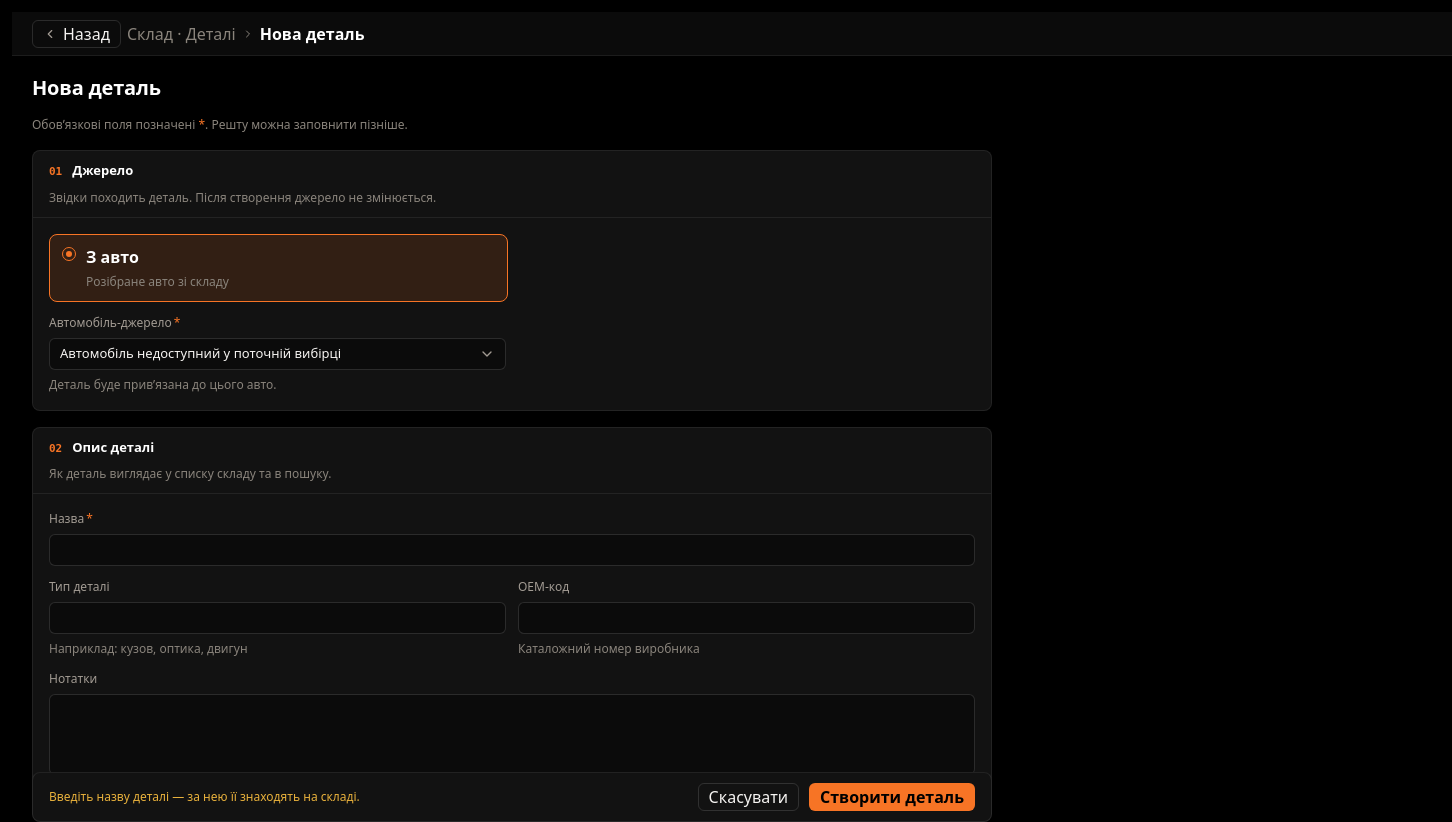
Test: opens the newly created part instead of leaving the creation drawer open
Type "Дзеркало" into the field labelled "Назва" at (512,550), box [49, 534, 975, 566]
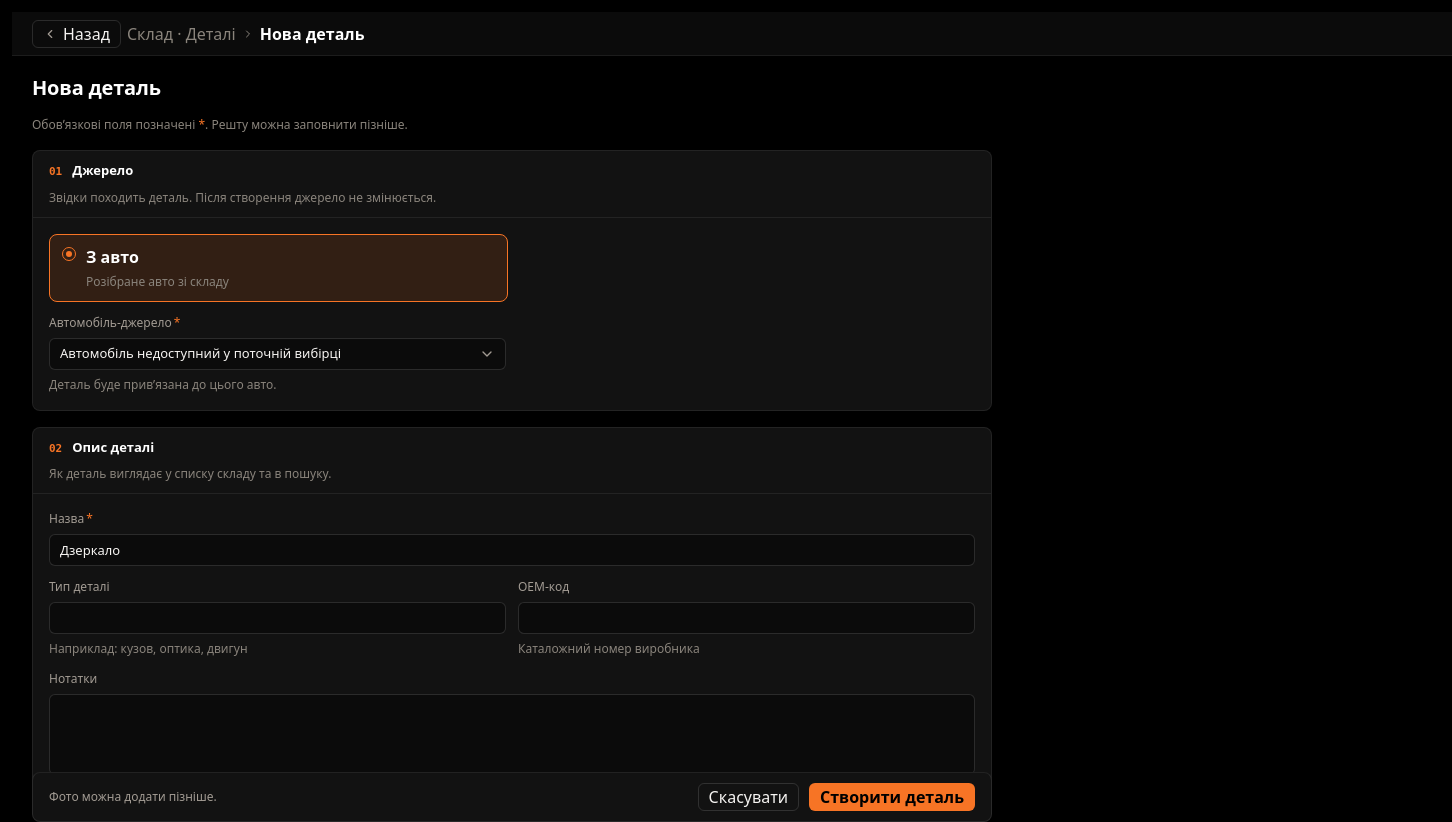
Click the button "Створити деталь" at (892,797), box [809, 783, 975, 811]
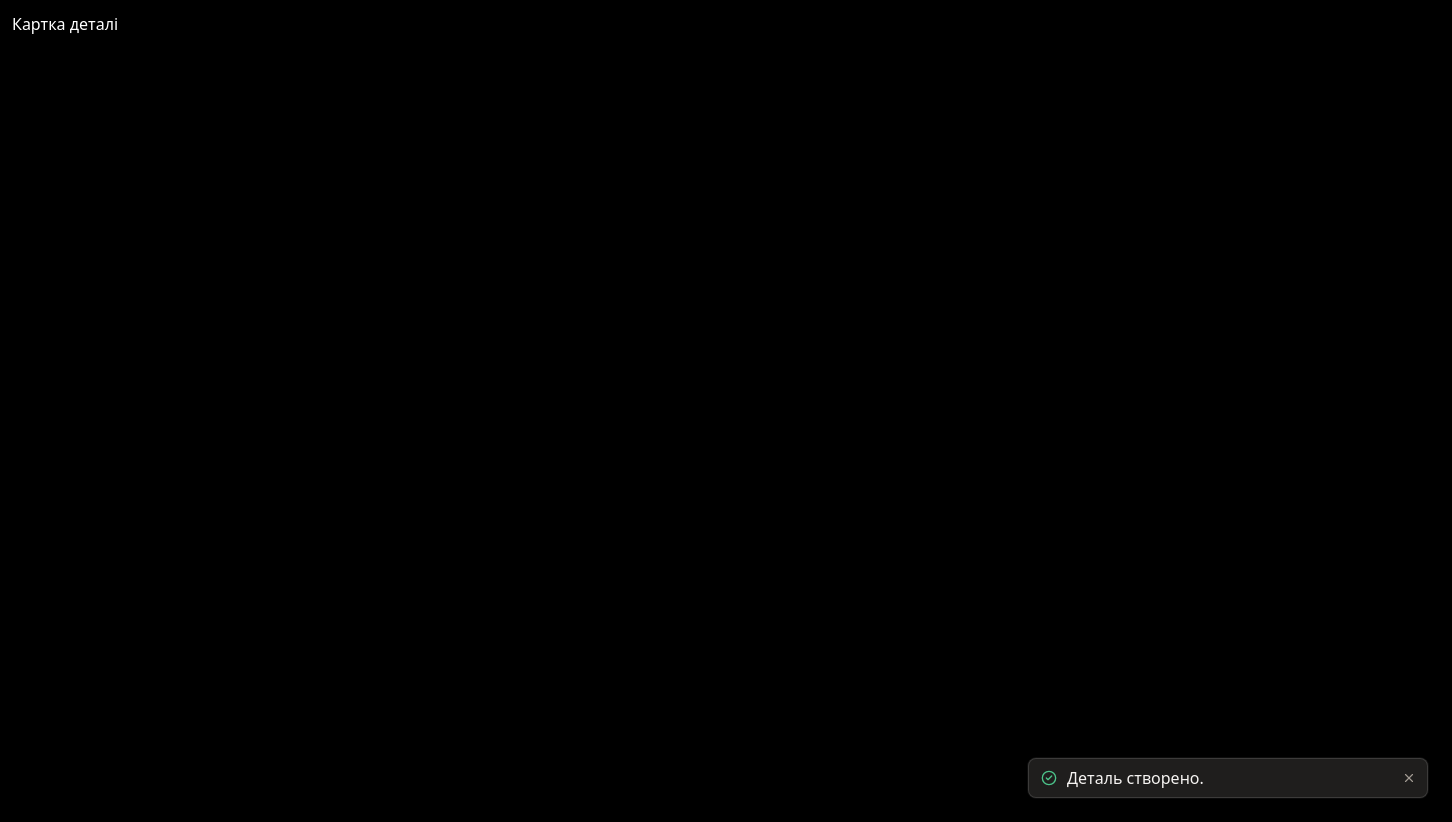
Expected: the text "Картка деталі" is shown, [12, 13, 118, 35]
Expected: the text "Нова деталь" is gone
Expected: the message reads "Деталь створено.", [1067, 767, 1204, 789]
